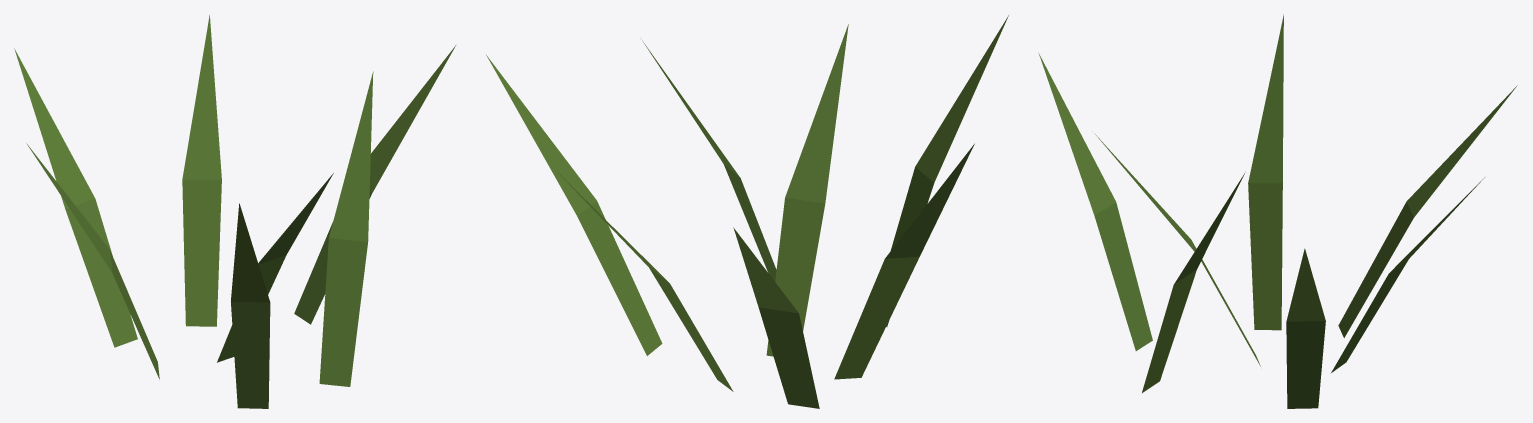
Rendered from Grass_1.fbx.
3 renders of one model, left to right at view 1: azimuth 30°, elevation 25°; view 2: azimuth 150°, elevation 25°; view 3: azimuth 270°, elevation 25°, orthographic. The views are drawn at different scales.
Parts seen in each view (by area): view 1: Grass_1; view 2: Grass_1; view 3: Grass_1.
Part boxes in pixels (x1,y1,x2,y2): Grass_1: [14, 15, 455, 408]; Grass_1: [486, 15, 1008, 408]; Grass_1: [1038, 14, 1517, 408].
Bounding box in the file's own units: 77.36 × 44.14 × 72.78.
